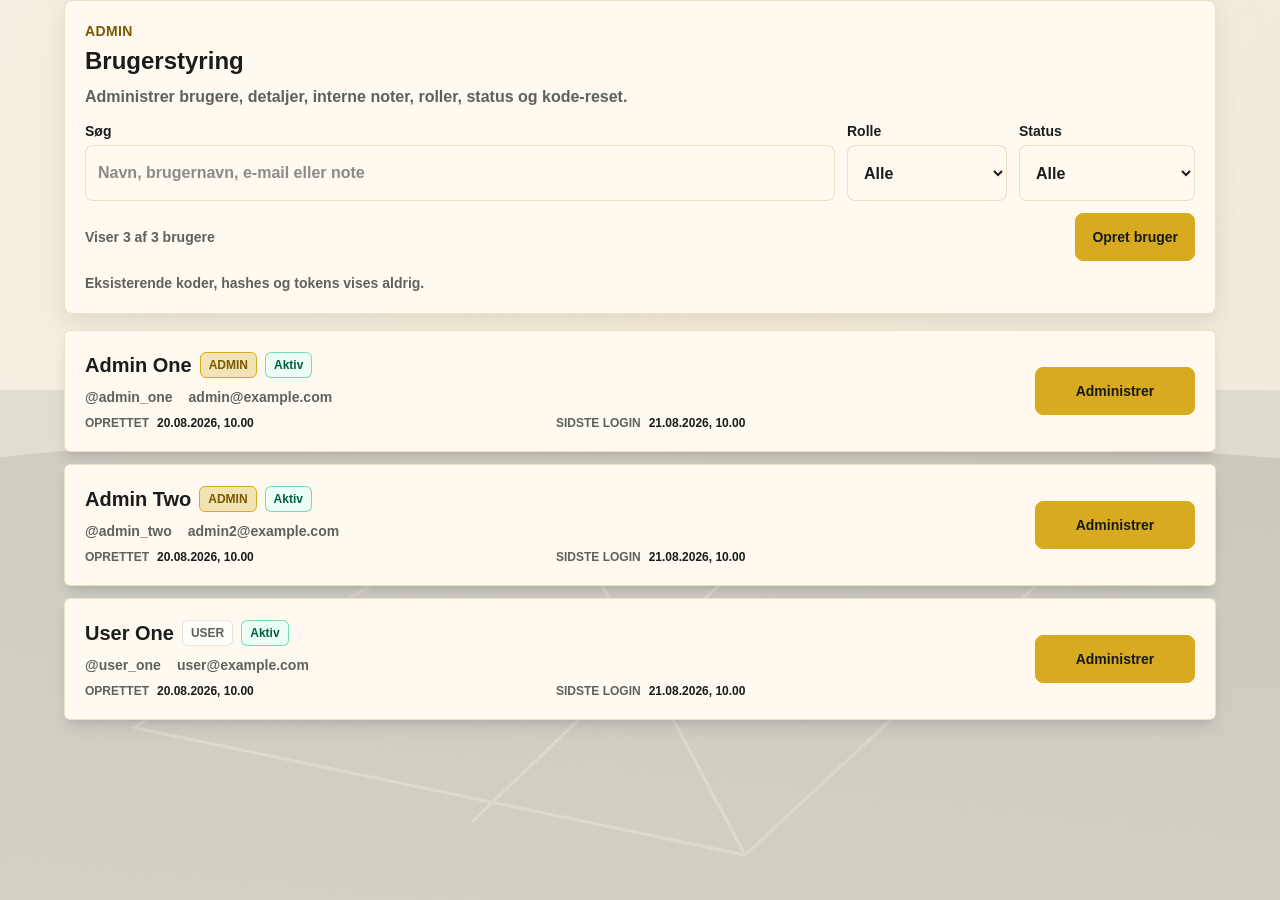
Test: STEP 25I-C1-C7 admin user management UI › opens a user detail panel for safe edits, notes and code reset
Expected: the element with test id "admin-user-row" that starts with "User One" is shown, 64,598 -> 1216,720
Click the button "Administrer" in the row of "user@example.com". click: (1115, 659)
box: 1035,635 -> 1195,683
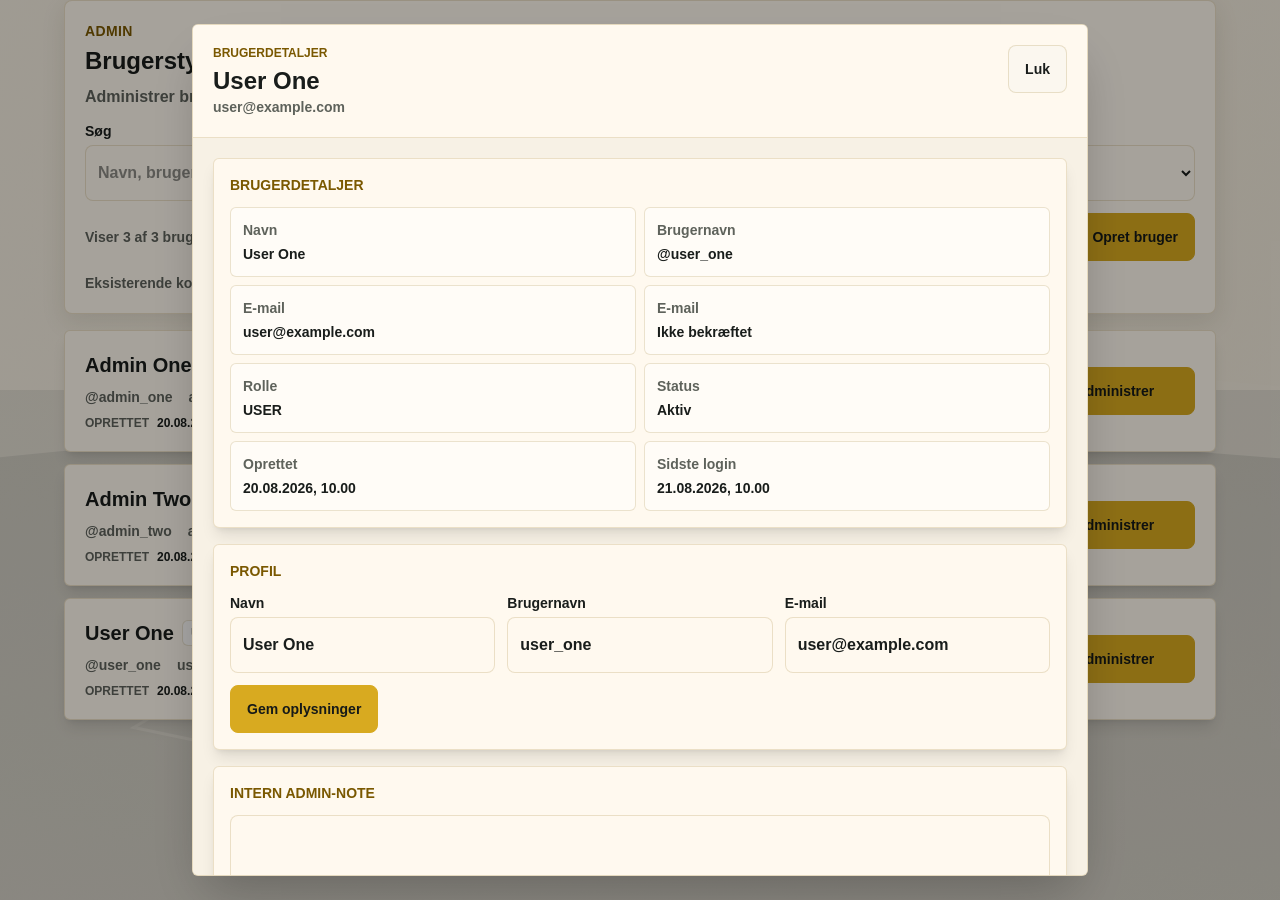
Replace the text in the field labelled "Navn" with "Updated User". click: (363, 645)
box: 230,617 -> 495,673
Replace the text in the field labelled "Brugernavn" with "updated_user". click: (640, 645)
box: 507,617 -> 773,673
Replace the text in the field labelled "E-mail" with "updated@example.com". click: (917, 645)
box: 785,617 -> 1050,673
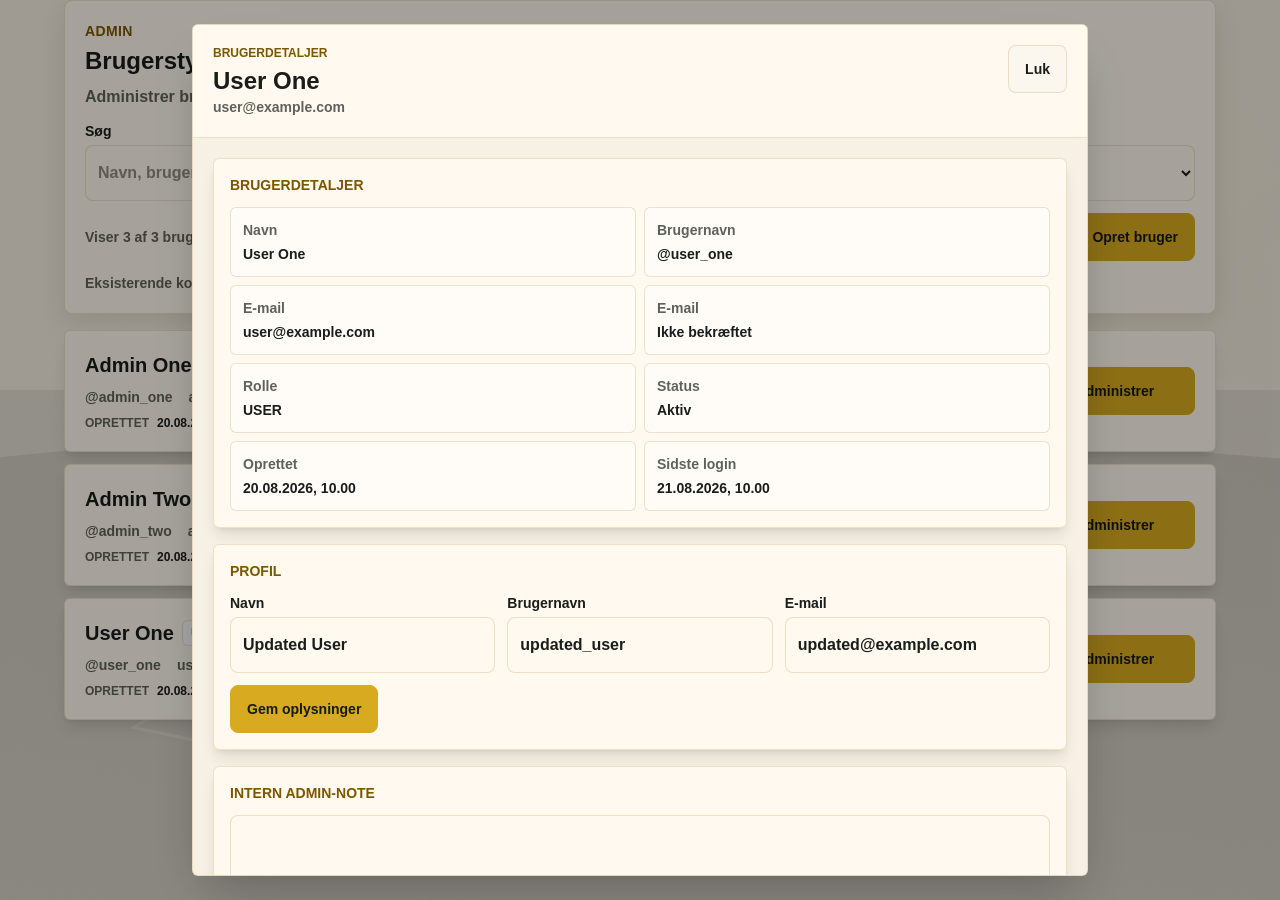
Click the button "Gem oplysninger". click: (304, 709)
box: 230,685 -> 378,733
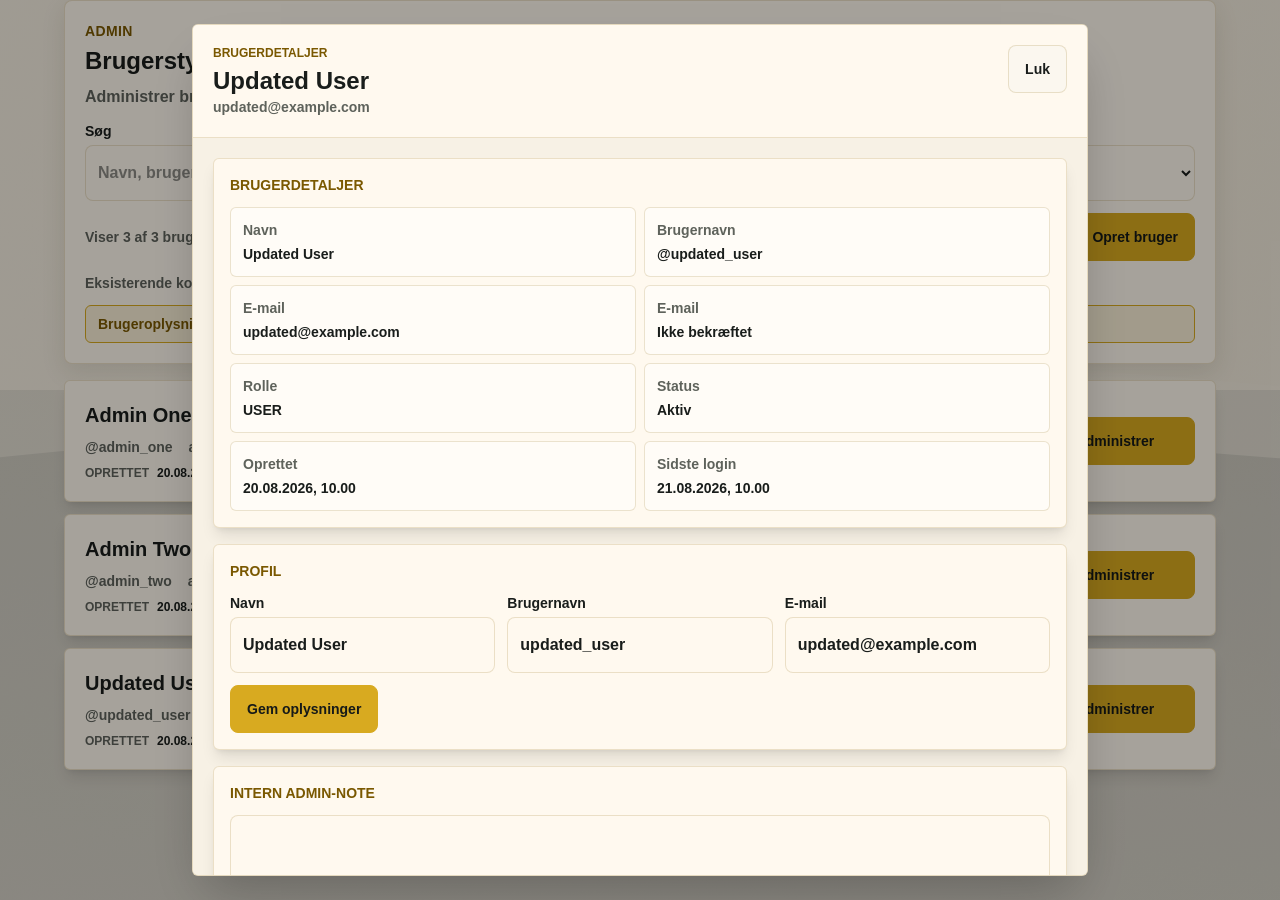
Expected: the text "Brugeroplysninger er gemt." is shown, 85,305 -> 1195,343
Type "Internal only" into the text box named "Intern admin-note". click: (640, 852)
box: 230,815 -> 1050,889
(page scrolled)
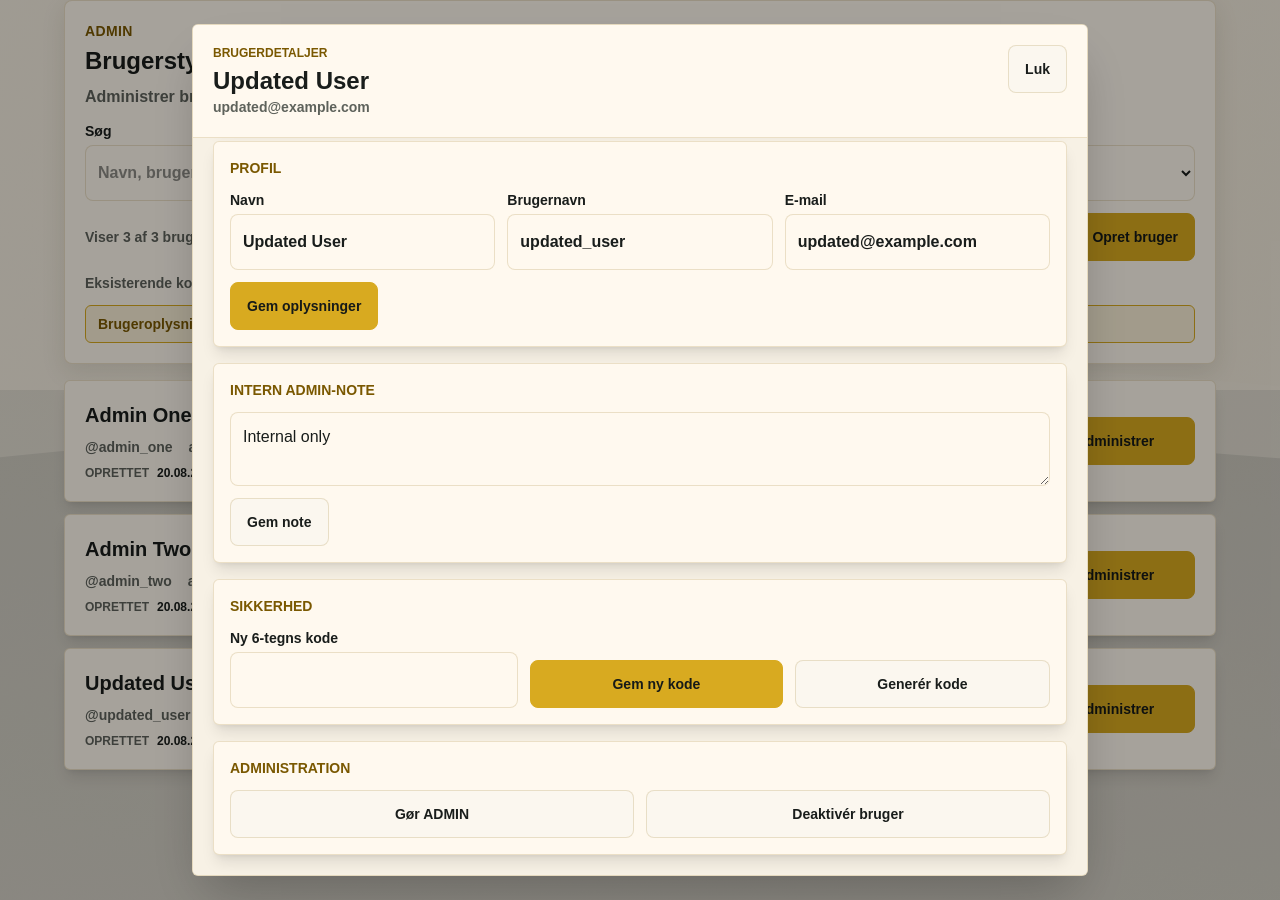
Click the button "Gem note". click: (279, 522)
box: 230,498 -> 329,546
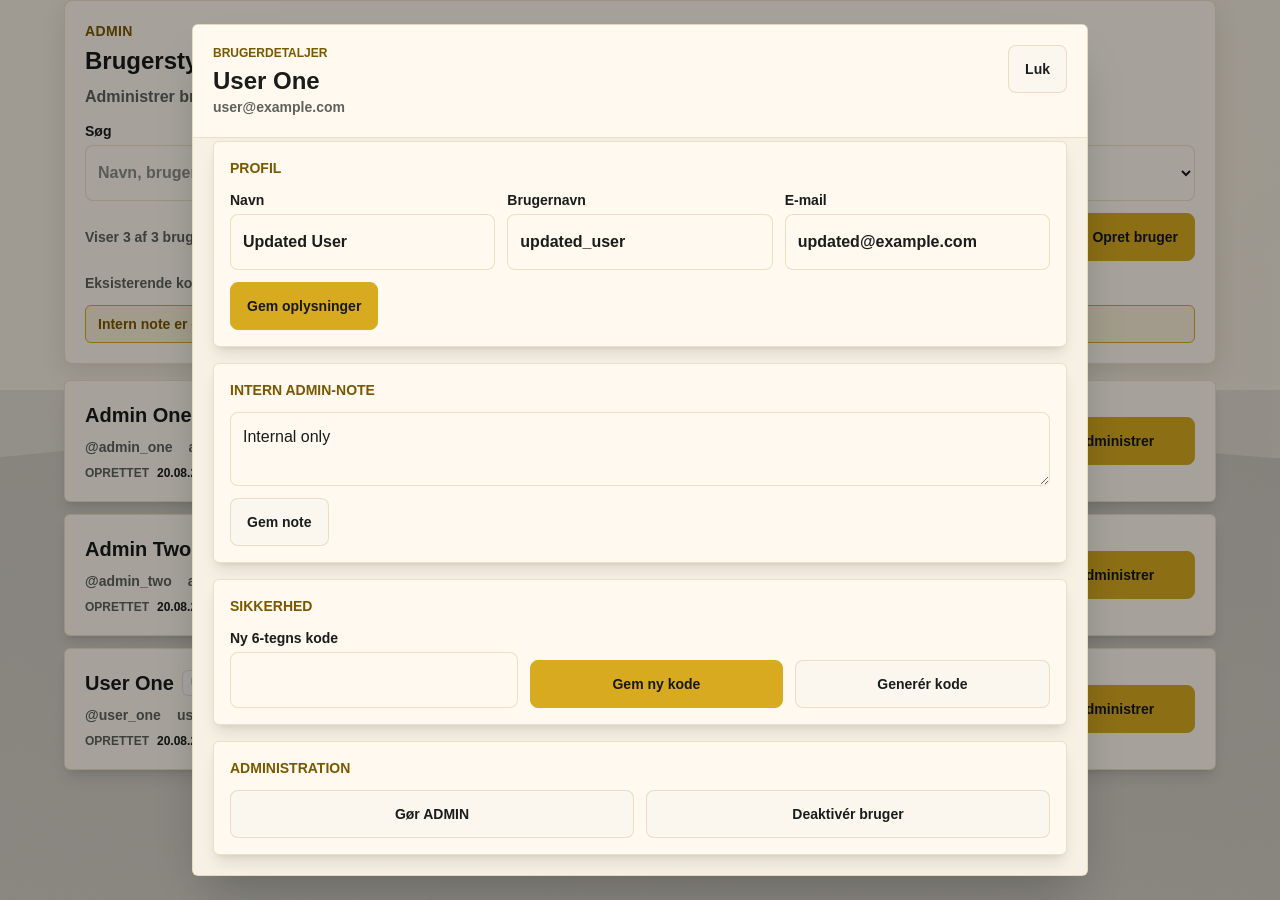
Expected: the text "Intern note er gemt." is shown, 85,305 -> 1195,343
Click the button "Generér kode". click: (922, 684)
box: 795,660 -> 1050,708
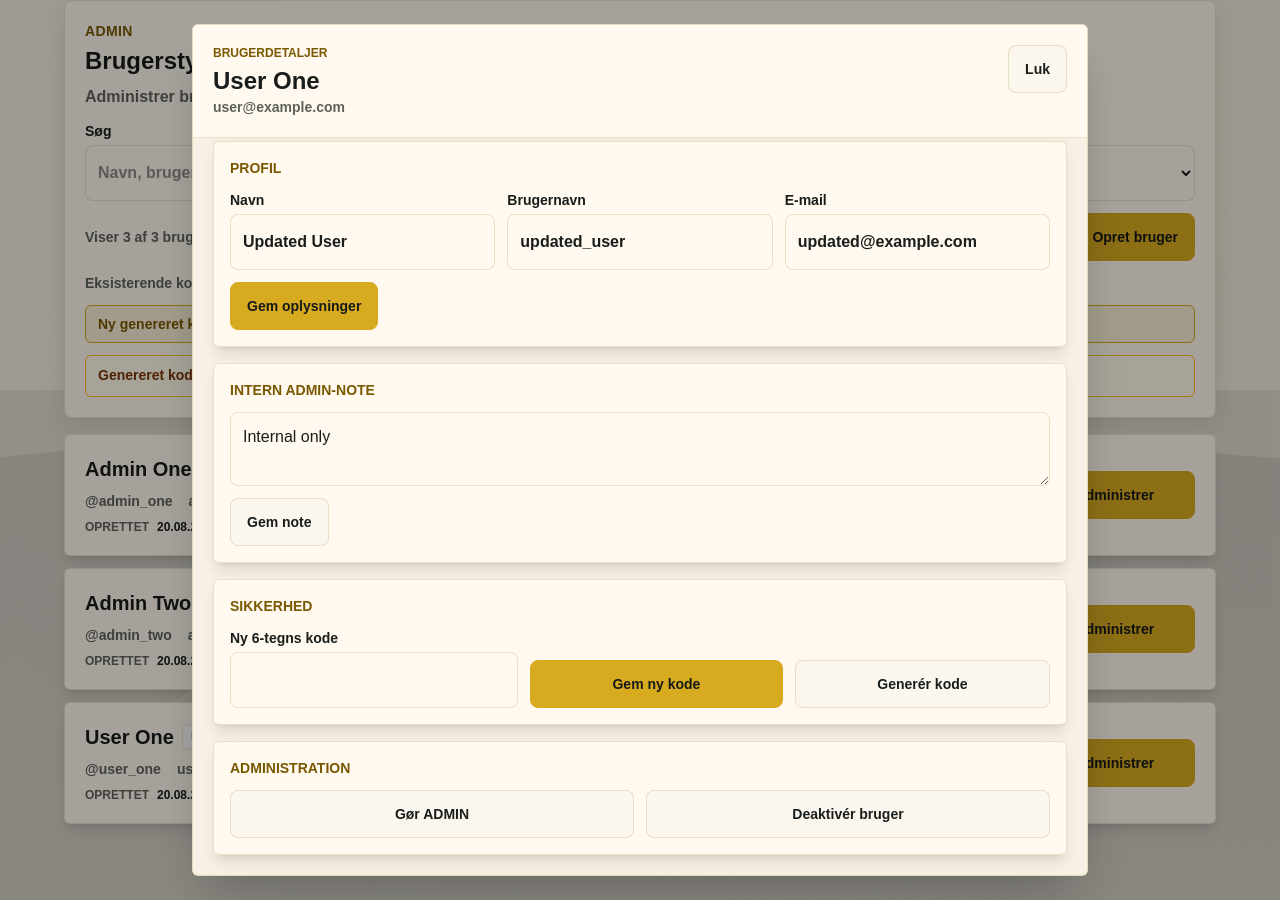
Expected: the text "Genereret kode: Q2W3E4" is shown, 85,355 -> 1195,397
